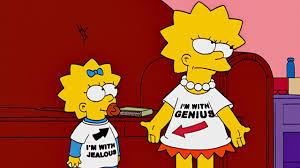Lisa: (148, 3, 252, 156)
Maggie: (42, 57, 135, 166)
